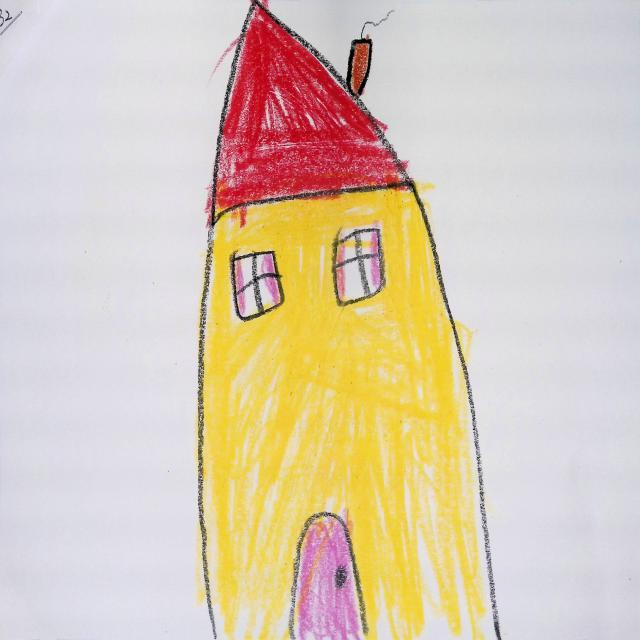chimney: (347, 39, 373, 95)
door: (292, 514, 367, 640)
house: (200, 2, 501, 640)
roof: (210, 1, 410, 222)
wall: (199, 184, 504, 640)
window: (331, 227, 386, 307), (229, 248, 285, 322)
